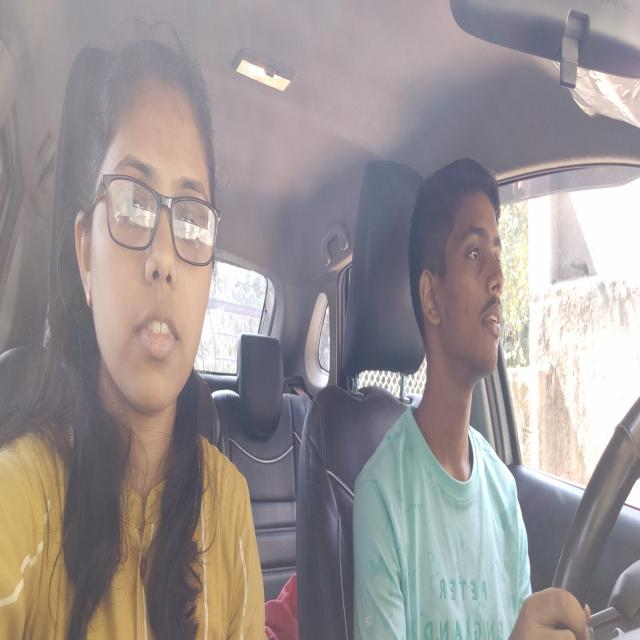person: (67, 35, 229, 411), (404, 147, 515, 392)
